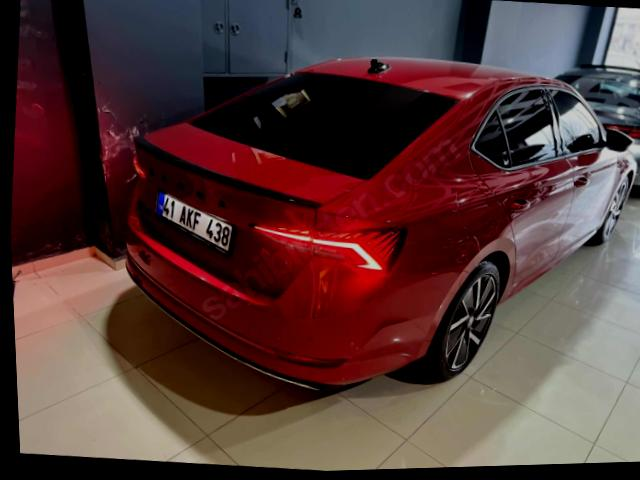plaka: (155, 191, 232, 253)
